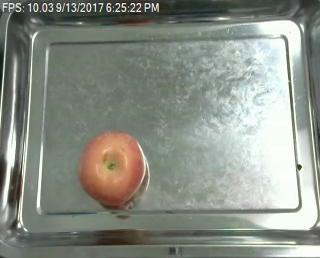apple: (77, 132, 147, 207)
